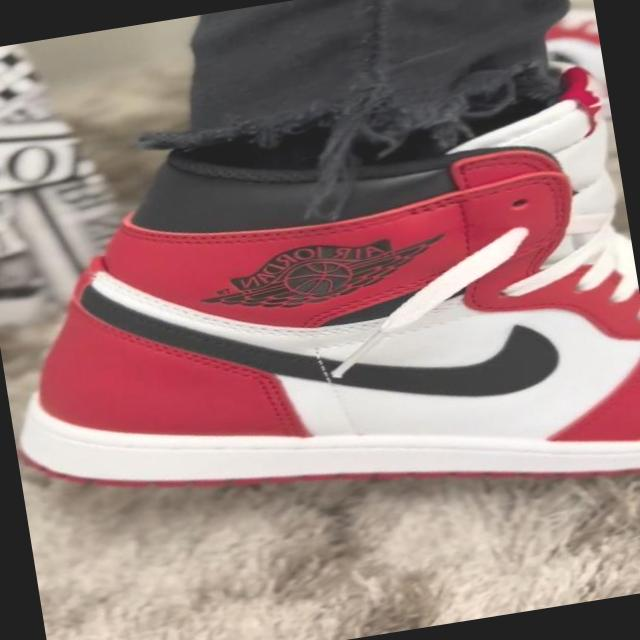nike_original_jordan: (0, 86, 640, 563)
